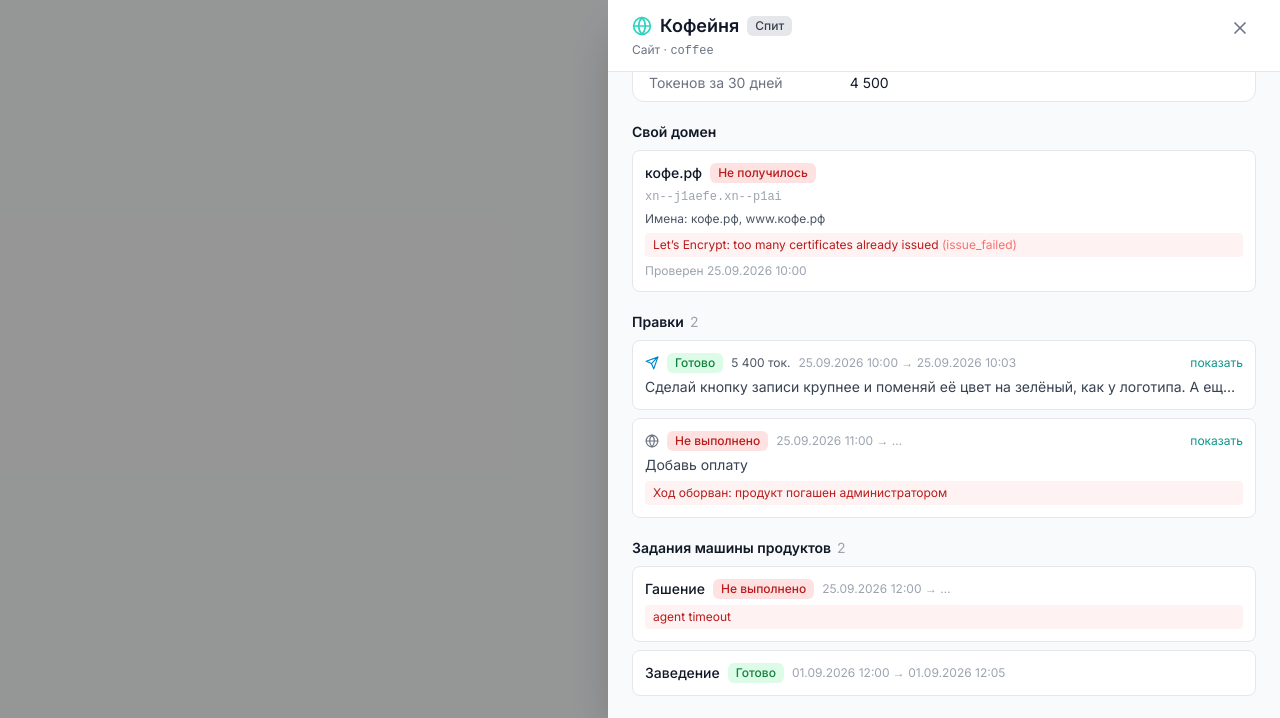
it: содержимое карточки › правки свёрнуты; «показать» раскрывает запрос и ответ, ошибка видна сразу
The width and height of the screenshot is (1280, 718).
(page scrolled)
Click the button "показать" in the row of "25.09.2026 10:03": click(1217, 363) x1=1190 y1=355 x2=1243 y2=371
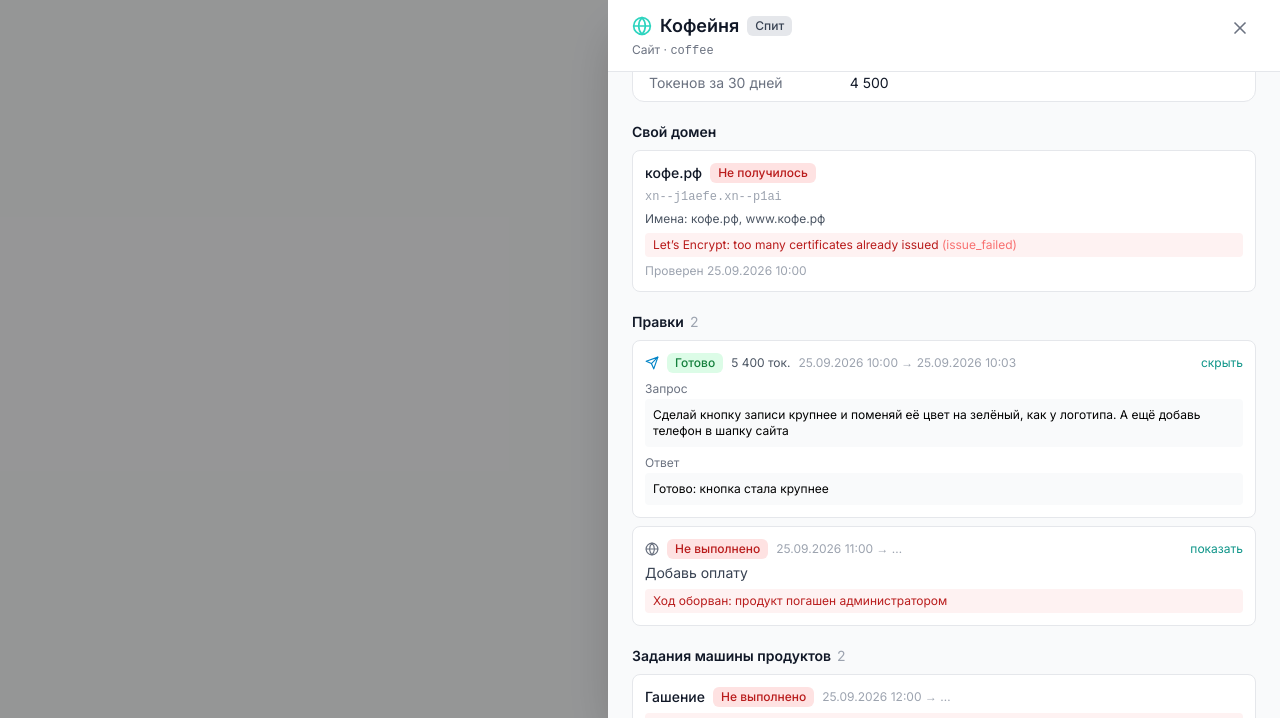
Expected: the button "скрыть" is shown
Click the button "скрыть": click(1222, 363) x1=1201 y1=355 x2=1243 y2=371
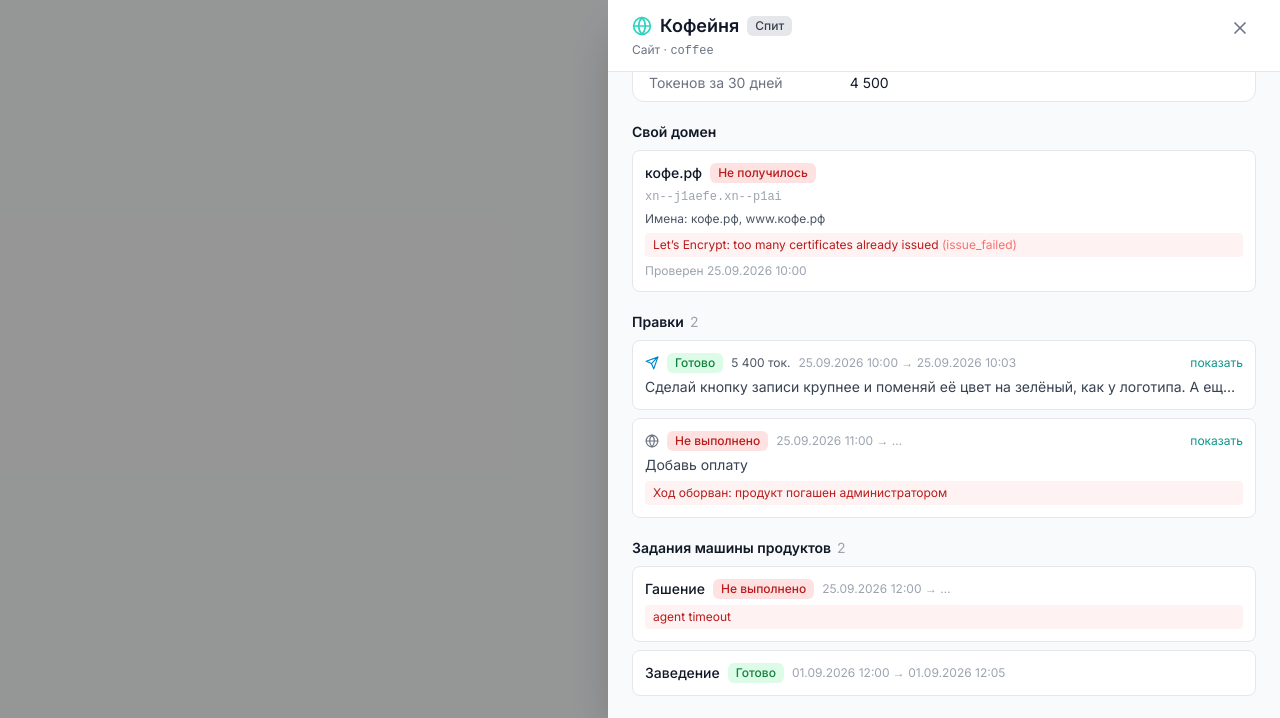
Expected: the button "показать" in the row of "25.09.2026 10:03" is shown, x1=1190 y1=355 x2=1243 y2=371
